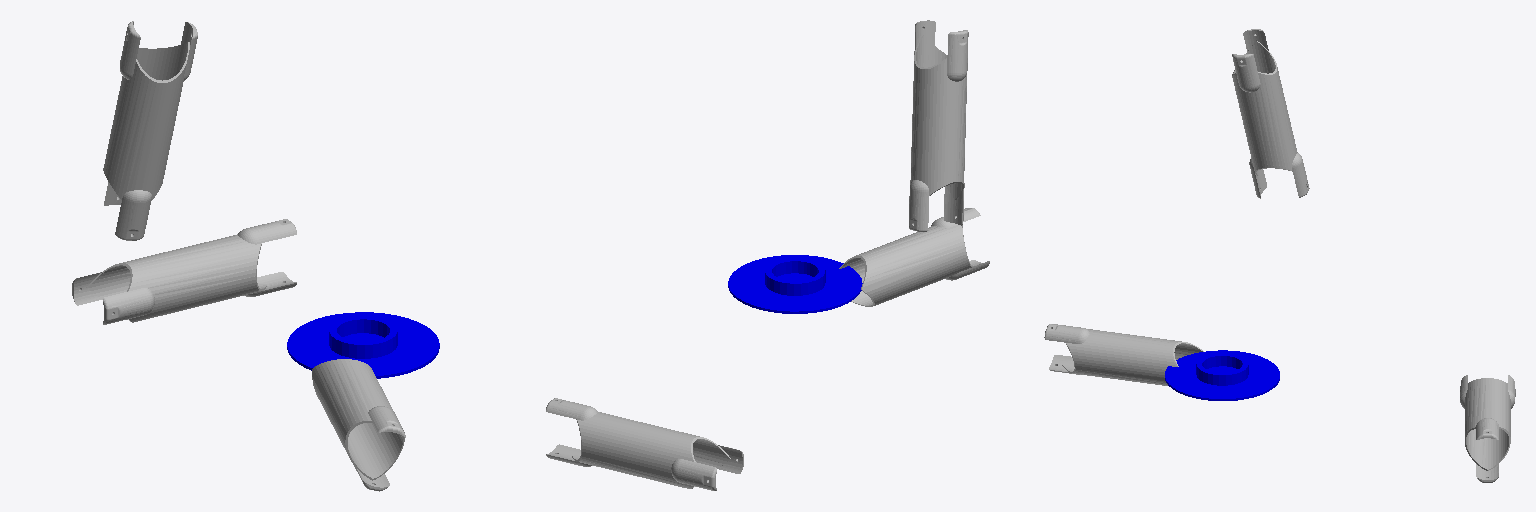
URDF robot description (ORIGINAL_3_DOF_ARM_description):
<?xml version="1.0" encoding="utf-8"?>
<!-- This URDF was automatically created by SolidWorks to URDF Exporter! Originally created by [author] ([email redacted]) 
     Commit Version: 1.4.4-6-g2742936-dirty  Build Version: 1.4.6968.15956
     For more information, please see http://wiki.ros.org/sw_urdf_exporter -->
<robot
  name="ORIGINAL_3_DOF_ARM_description">
  <link
    name="base_link">
    <inertial>
      <origin
        xyz="0.00857185004749454 0.0277890770314089 0.0379884681378223"
        rpy="0 0 0" />
      <mass
        value="0.0450462948917676" />
      <inertia
        ixx="3.73760183746963E-05"
        ixy="7.37175916246715E-37"
        ixz="-3.67341984631965E-37"
        iyy="3.73760183746963E-05"
        iyz="3.21685897560652E-21"
        izz="7.33038758972795E-05" />
    </inertial>
    <visual>
      <origin
        xyz="0 0 0"
        rpy="0 0 0" />
      <geometry>
        <mesh
          filename="package://ORIGINAL_3_DOF_ARM_description/meshes/base_link.STL" />
      </geometry>
      <material
        name="">
        <color
          rgba="0 0 1 0.5" />
      </material>
    </visual>
    <collision>
      <origin
        xyz="0 0 0"
        rpy="0 0 0" />
      <geometry>
        <mesh
          filename="package://ORIGINAL_3_DOF_ARM_description/meshes/base_link.STL" />
      </geometry>
    </collision>
  </link>
  <link
    name="link1">
    <inertial>
      <origin
        xyz="0.110757629166325 -8.47845058049579E-12 8.47839853879151E-12"
        rpy="0 0 0" />
      <mass
        value="0.0483301725897621" />
      <inertia
        ixx="2.34046418523273E-05"
        ixy="-9.12469035853591E-15"
        ixz="-9.1246965685776E-15"
        iyy="6.7625497098099E-05"
        iyz="-1.78995347833815E-11"
        izz="6.79761299610003E-05" />
    </inertial>
    <visual>
      <origin
        xyz="0 0 0"
        rpy="0 0 0" />
      <geometry>
        <mesh
          filename="package://ORIGINAL_3_DOF_ARM_description/meshes/link1.STL" />
      </geometry>
      <material
        name="">
        <color
          rgba="0.752941176470588 0.752941176470588 0.752941176470588 1" />
      </material>
    </visual>
    <collision>
      <origin
        xyz="0 0 0"
        rpy="0 0 0" />
      <geometry>
        <mesh
          filename="package://ORIGINAL_3_DOF_ARM_description/meshes/link1.STL" />
      </geometry>
    </collision>
  </link>
  <joint
    name="joint1"
    type="continuous">
    <origin
      xyz="0.0085719 0.027789 0.020415"
      rpy="2.8348 -1.5708 0" />
    <parent
      link="base_link" />
    <child
      link="link1" />
    <axis
      xyz="-1 0 0" />
    <safety_controller
      k_velocity="0" />
  </joint>
  <link
    name="link2">
    <inertial>
      <origin
        xyz="0.0943407218386796 5.81092854596774E-07 -9.84910960399876E-07"
        rpy="0 0 0" />
      <mass
        value="0.0585758042581199" />
      <inertia
        ixx="2.38164941843817E-05"
        ixy="9.72727997584935E-10"
        ixz="7.81793935667511E-10"
        iyy="6.97154129782386E-05"
        iyz="-1.99343905502661E-09"
        izz="6.97122641242123E-05" />
    </inertial>
    <visual>
      <origin
        xyz="0 0 0"
        rpy="0 0 0" />
      <geometry>
        <mesh
          filename="package://ORIGINAL_3_DOF_ARM_description/meshes/link2.STL" />
      </geometry>
      <material
        name="">
        <color
          rgba="0.752941176470588 0.752941176470588 0.752941176470588 1" />
      </material>
    </visual>
    <collision>
      <origin
        xyz="0 0 0"
        rpy="0 0 0" />
      <geometry>
        <mesh
          filename="package://ORIGINAL_3_DOF_ARM_description/meshes/link2.STL" />
      </geometry>
    </collision>
  </link>
  <joint
    name="joint2"
    type="revolute">
    <origin
      xyz="0.18177 0 0"
      rpy="-1.5708 0 -1.7091" />
    <parent
      link="link1" />
    <child
      link="link2" />
    <axis
      xyz="0 -1 0" />
    <limit
      lower="0"
      upper="0"
      effort="0"
      velocity="0" />
    <safety_controller
      k_velocity="0" />
  </joint>
  <link
    name="link3">
    <inertial>
      <origin
        xyz="0.0943408063355609 4.37197531205635E-07 -3.60101098773047E-07"
        rpy="0 0 0" />
      <mass
        value="0.0585758669634938" />
      <inertia
        ixx="2.38167246601106E-05"
        ixy="-8.54495980074359E-12"
        ixz="-6.80054618075403E-11"
        iyy="6.97192250758933E-05"
        iyz="-3.89114521030646E-09"
        izz="6.97121157840842E-05" />
    </inertial>
    <visual>
      <origin
        xyz="0 0 0"
        rpy="0 0 0" />
      <geometry>
        <mesh
          filename="package://ORIGINAL_3_DOF_ARM_description/meshes/link3.STL" />
      </geometry>
      <material
        name="">
        <color
          rgba="0.752941176470588 0.752941176470588 0.752941176470588 1" />
      </material>
    </visual>
    <collision>
      <origin
        xyz="0 0 0"
        rpy="0 0 0" />
      <geometry>
        <mesh
          filename="package://ORIGINAL_3_DOF_ARM_description/meshes/link3.STL" />
      </geometry>
    </collision>
  </link>
  <joint
    name="joint3"
    type="revolute">
    <origin
      xyz="0.18177 0 0"
      rpy="-1.5708 0 -1.8796" />
    <parent
      link="link2" />
    <child
      link="link3" />
    <axis
      xyz="0 -1 0" />
    <limit
      lower="0"
      upper="0"
      effort="0"
      velocity="0" />
    <safety_controller
      k_velocity="0" />
  </joint>
</robot>

--- Facts derived from the render (not from the file) ---
Views: 3 orthographic renders of the robot side by side, from view 1: azimuth 30°, elevation 25°; view 2: azimuth 150°, elevation 25°; view 3: azimuth 270°, elevation 25°.
Robot: ORIGINAL_3_DOF_ARM_description — 4 links, 3 joints (2 revolute, 1 continuous); root link base_link; default pose: all joints at 0.
Visible links, largest first — view 1: link3, link2, link1, base_link; view 2: link2, link3, link1, base_link; view 3: link2, link1, base_link, link3.
Link boxes in pixels (x1,y1,x2,y2): link3: [72, 219, 296, 324]; link2: [103, 21, 197, 240]; link1: [312, 359, 405, 491]; base_link: [287, 312, 439, 378]; link2: [909, 20, 968, 231]; link3: [546, 398, 743, 490]; link1: [839, 208, 989, 306]; base_link: [728, 255, 862, 313]; link2: [1232, 29, 1309, 198]; link1: [1044, 324, 1203, 385]; base_link: [1165, 350, 1279, 400]; link3: [1460, 375, 1515, 482].
Size in the robot's own frame: 0.3119 by 0.5166 by 0.4115 metres.
4 mesh visuals loaded from 4 distinct referenced files (4 binary STL).
